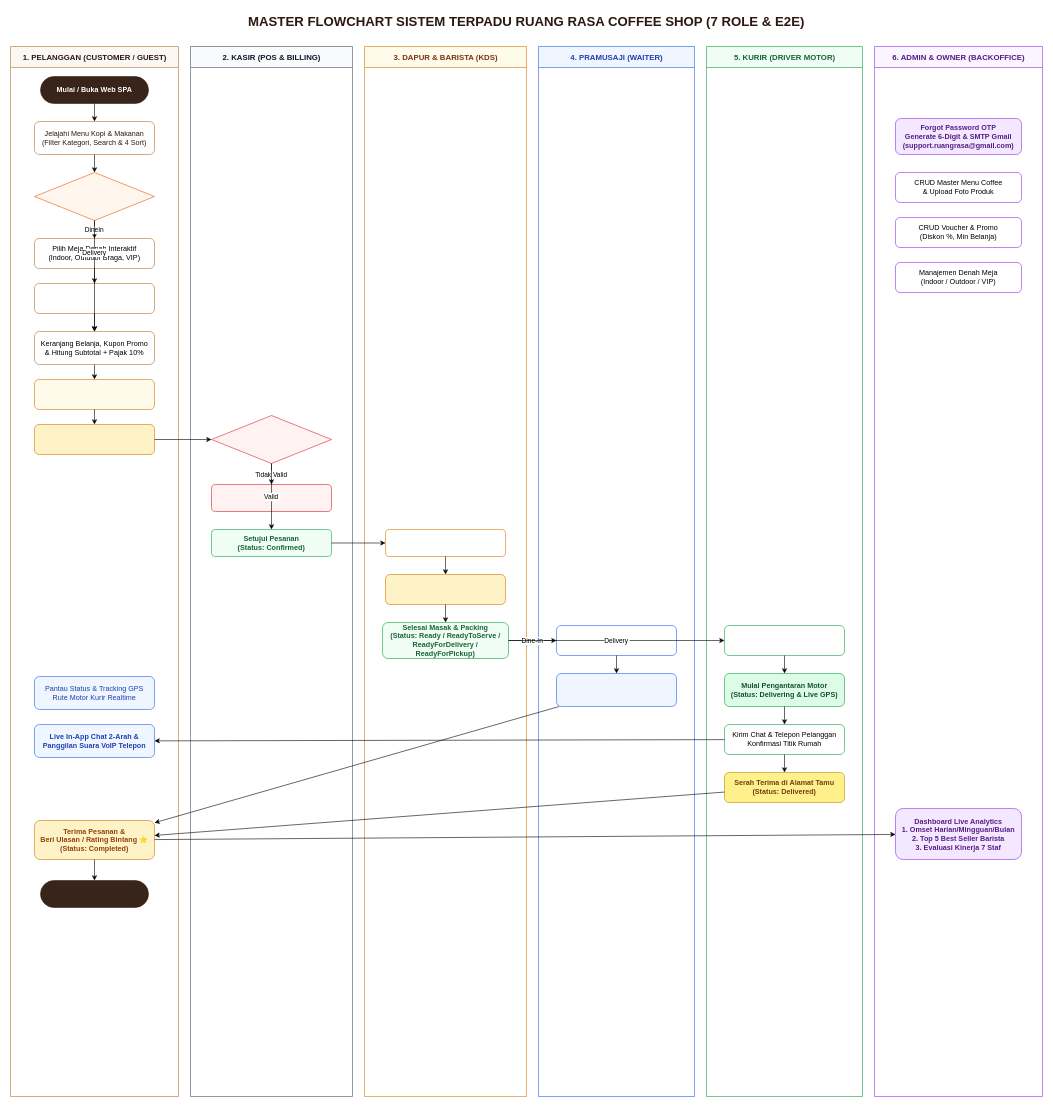
This 1053x1107 diagram has some shape labels left out. Here are the shapes that lost their labels. From the top down, the centre of each, then its label:
the point at 94,196: Pilih Tipe Layanan (DineIn / Delivery / TakeAway)
the point at 94,298: Set Pin Lokasi Alamat & Hitung Ongkir (API RajaOngkir)
the point at 94,394: Pilih Metode Pembayaran (QRIS / VA / Card / Cash)
the point at 94,439: Bayar & Submit Order (Status: PendingPayment)
the point at 271,439: Verifikasi Pembayaran (QRIS Callback / Bukti Transfer)
the point at 271,498: Tolak Pesanan & Catat Alasan (Status: Cancelled)
the point at 445,542: Pesanan Masuk di Layar KDS (Auto-Polling 3 Detik)
the point at 445,589: Mulai Racik Kopi & Masak (Status: Processing / Cooking)
the point at 616,640: Terima Notif Dine-In Siap Saji (Cek Nomor Meja Tujuan)
the point at 784,640: Klaim Pesanan Delivery (Ambil di Counter Braga)
the point at 616,689: Antar Nampan ke Meja Tamu & Update Status Meja: Occupied
the point at 94,894: Selesai (Transaction Closed)
